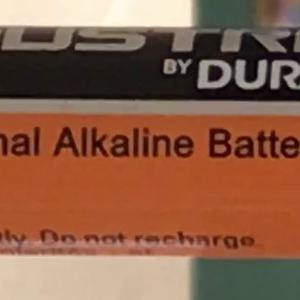ALK: (43, 117, 98, 167)
